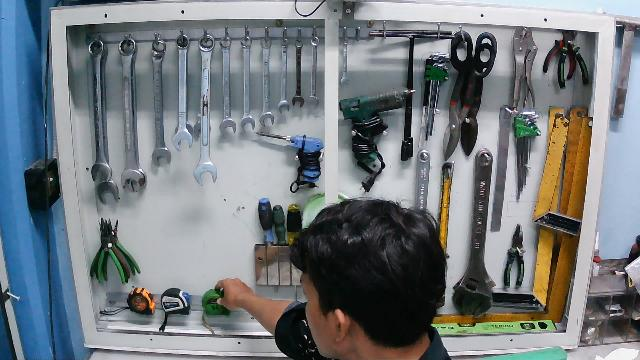meteran: (195, 283, 237, 336)
